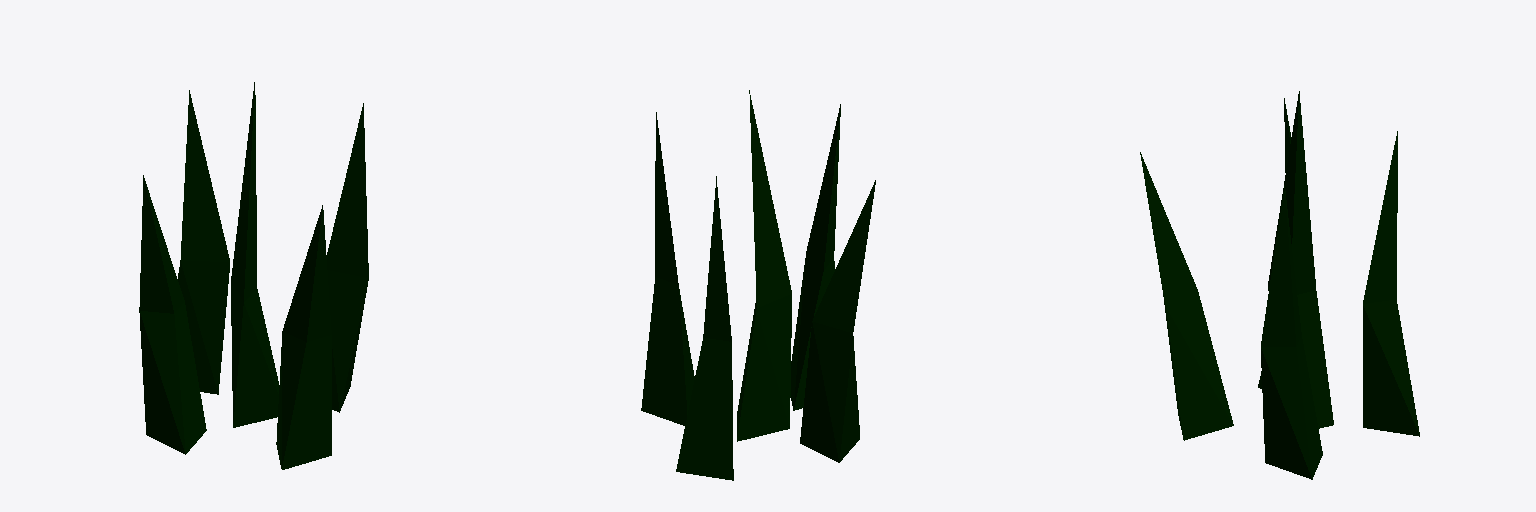
File: Grass_2.obj
3 views of the same model, side by side, from view 1: azimuth 30°, elevation 25°; view 2: azimuth 150°, elevation 25°; view 3: azimuth 270°, elevation 25° (orthographic).
Parts seen in each view (by area): view 1: Grass_2_Cone.001; view 2: Grass_2_Cone.001; view 3: Grass_2_Cone.001.
Boxes of the visible parts, <box> form: Grass_2_Cone.001: <box>139,82,368,469</box>; Grass_2_Cone.001: <box>641,90,875,480</box>; Grass_2_Cone.001: <box>1140,91,1419,479</box>.
Bounding box in the file's own units: 0.4483 × 0.6631 × 0.4925.